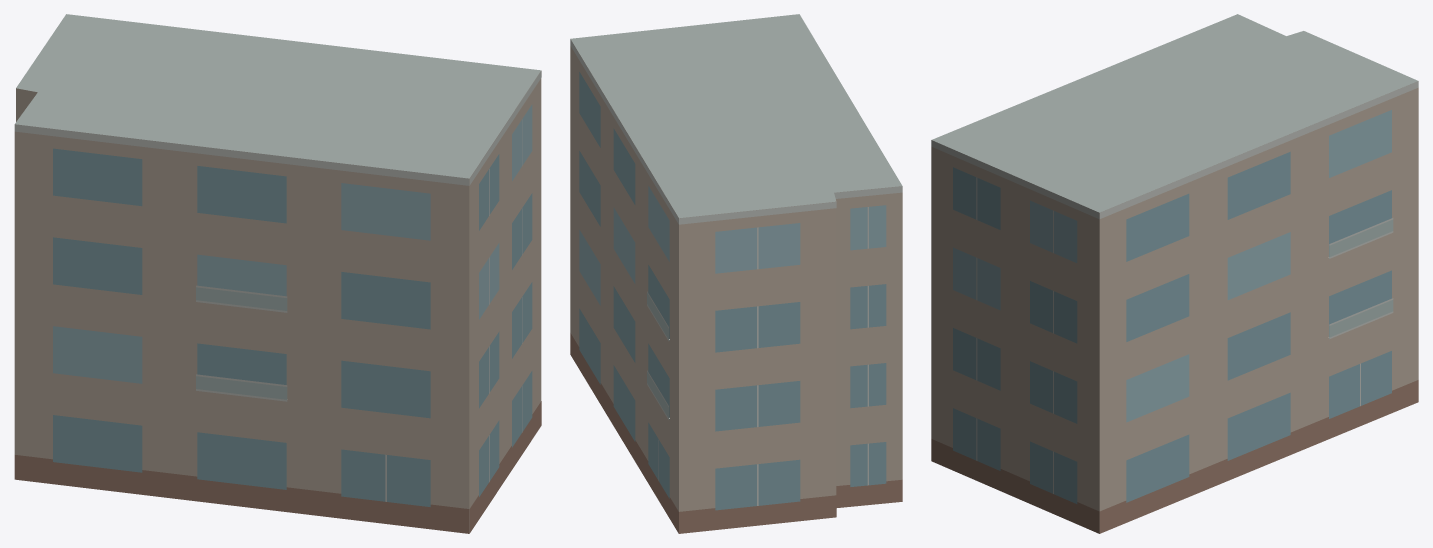
Rendered from survey-upis-32892712.glb.
3 views of the same model, side by side, from view 1: azimuth 30°, elevation 25°; view 2: azimuth 150°, elevation 25°; view 3: azimuth 270°, elevation 25° (orthographic). The views are drawn at different scales.
Parts seen in each view (by area): view 1: survey-upis-32892712.tmp; view 2: survey-upis-32892712.tmp; view 3: survey-upis-32892712.tmp.
Part boxes in pixels (box(x1,y1,x2,y2)): survey-upis-32892712.tmp: box(14, 14, 541, 533); survey-upis-32892712.tmp: box(570, 14, 902, 533); survey-upis-32892712.tmp: box(931, 14, 1418, 533).
Size of the model in its own units: 15.73 by 11.85 by 16.3.
